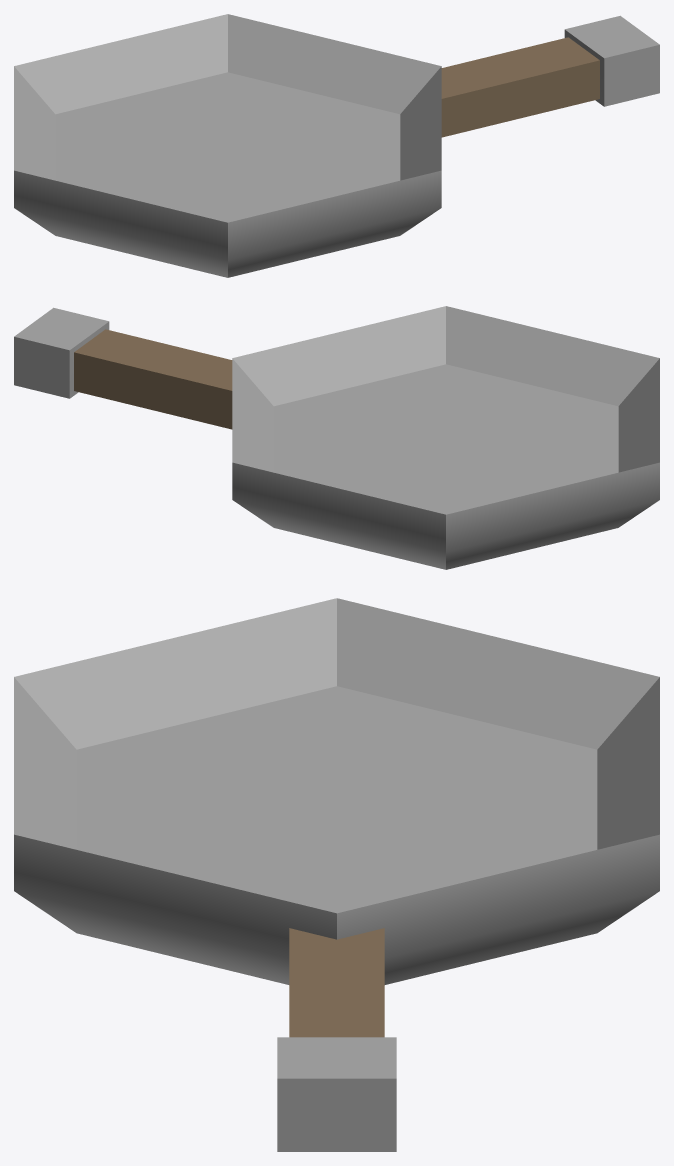
File: Asarten.fbx
3 views of the same model, one above another, from view 1: azimuth 30°, elevation 25°; view 2: azimuth 150°, elevation 25°; view 3: azimuth 270°, elevation 25° (orthographic). The views are drawn at different scales.
Parts seen in each view (by area): view 1: pCylinder2; view 2: pCylinder2; view 3: pCylinder2.
Part boxes in pixels (left/top/right/bottom): pCylinder2: left=14, top=14, right=659, bottom=277; pCylinder2: left=14, top=306, right=659, bottom=569; pCylinder2: left=14, top=598, right=659, bottom=1151.
Bounding box in the file's own units: 262 × 30.19 × 155.
